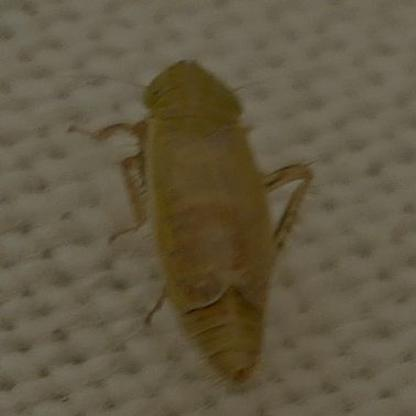green-leafhopper: (126, 60, 308, 386)
